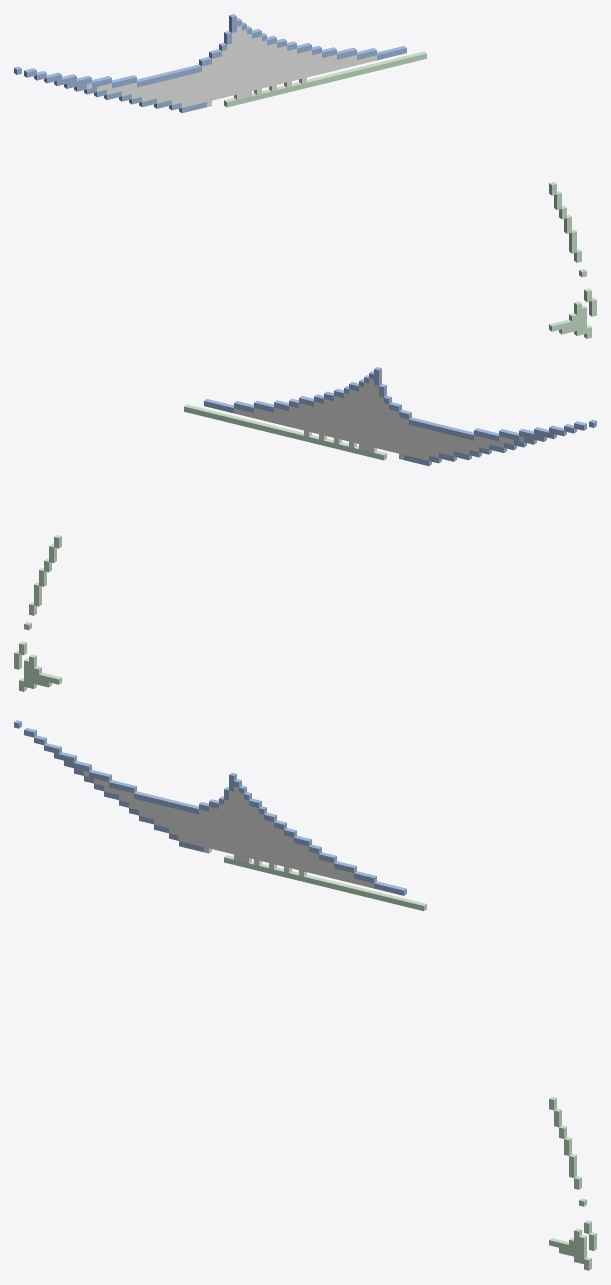
Rendered from Fight_023_3_06_fx.obj.
The picture shows the model from 3 angles, top to bottom: view 1: azimuth 30°, elevation 25°; view 2: azimuth 150°, elevation 25°; view 3: azimuth 330°, elevation 25°; orthographic projection.
Size of the model in its own units: 11.6 by 7.8 by 0.1.
1 material, 1 textured.
